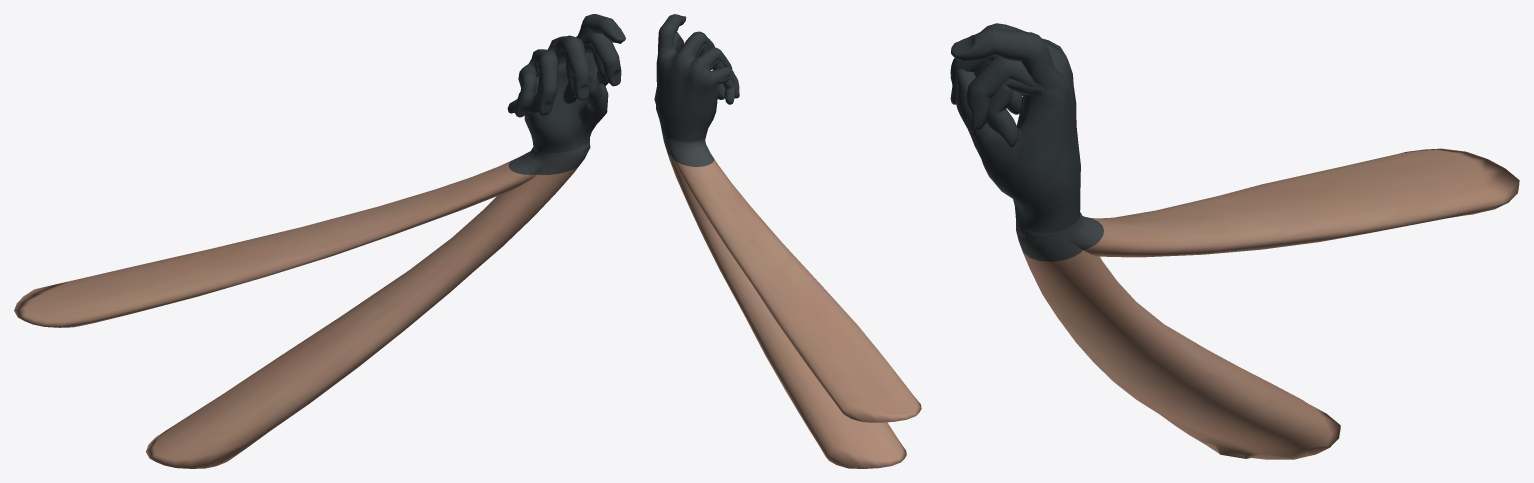
File: view-hands.glb
The picture shows the model from 3 angles, left to right: view 1: azimuth 30°, elevation 25°; view 2: azimuth 150°, elevation 25°; view 3: azimuth 270°, elevation 25°; orthographic projection. The views are drawn at different scales.
Parts seen in each view (by area): view 1: hand_knife, hand_support, hand_trigger; view 2: hand_knife, hand_support, hand_trigger; view 3: hand_knife, hand_support, hand_trigger.
Boxes of the visible parts, x1=… form: hand_knife: x1=14, y1=43, x2=608, y2=327; hand_support: x1=146, y1=32, x2=621, y2=468; hand_trigger: x1=146, y1=14, x2=625, y2=468; hand_knife: x1=654, y1=40, x2=921, y2=422; hand_support: x1=654, y1=31, x2=906, y2=466; hand_trigger: x1=656, y1=14, x2=906, y2=468; hand_knife: x1=955, y1=55, x2=1519, y2=257; hand_support: x1=950, y1=23, x2=1339, y2=459; hand_trigger: x1=951, y1=28, x2=1340, y2=459.
Bounding box in the file's own units: 1.64 × 1.41 × 1.12.
3 materials, 3 textured.
